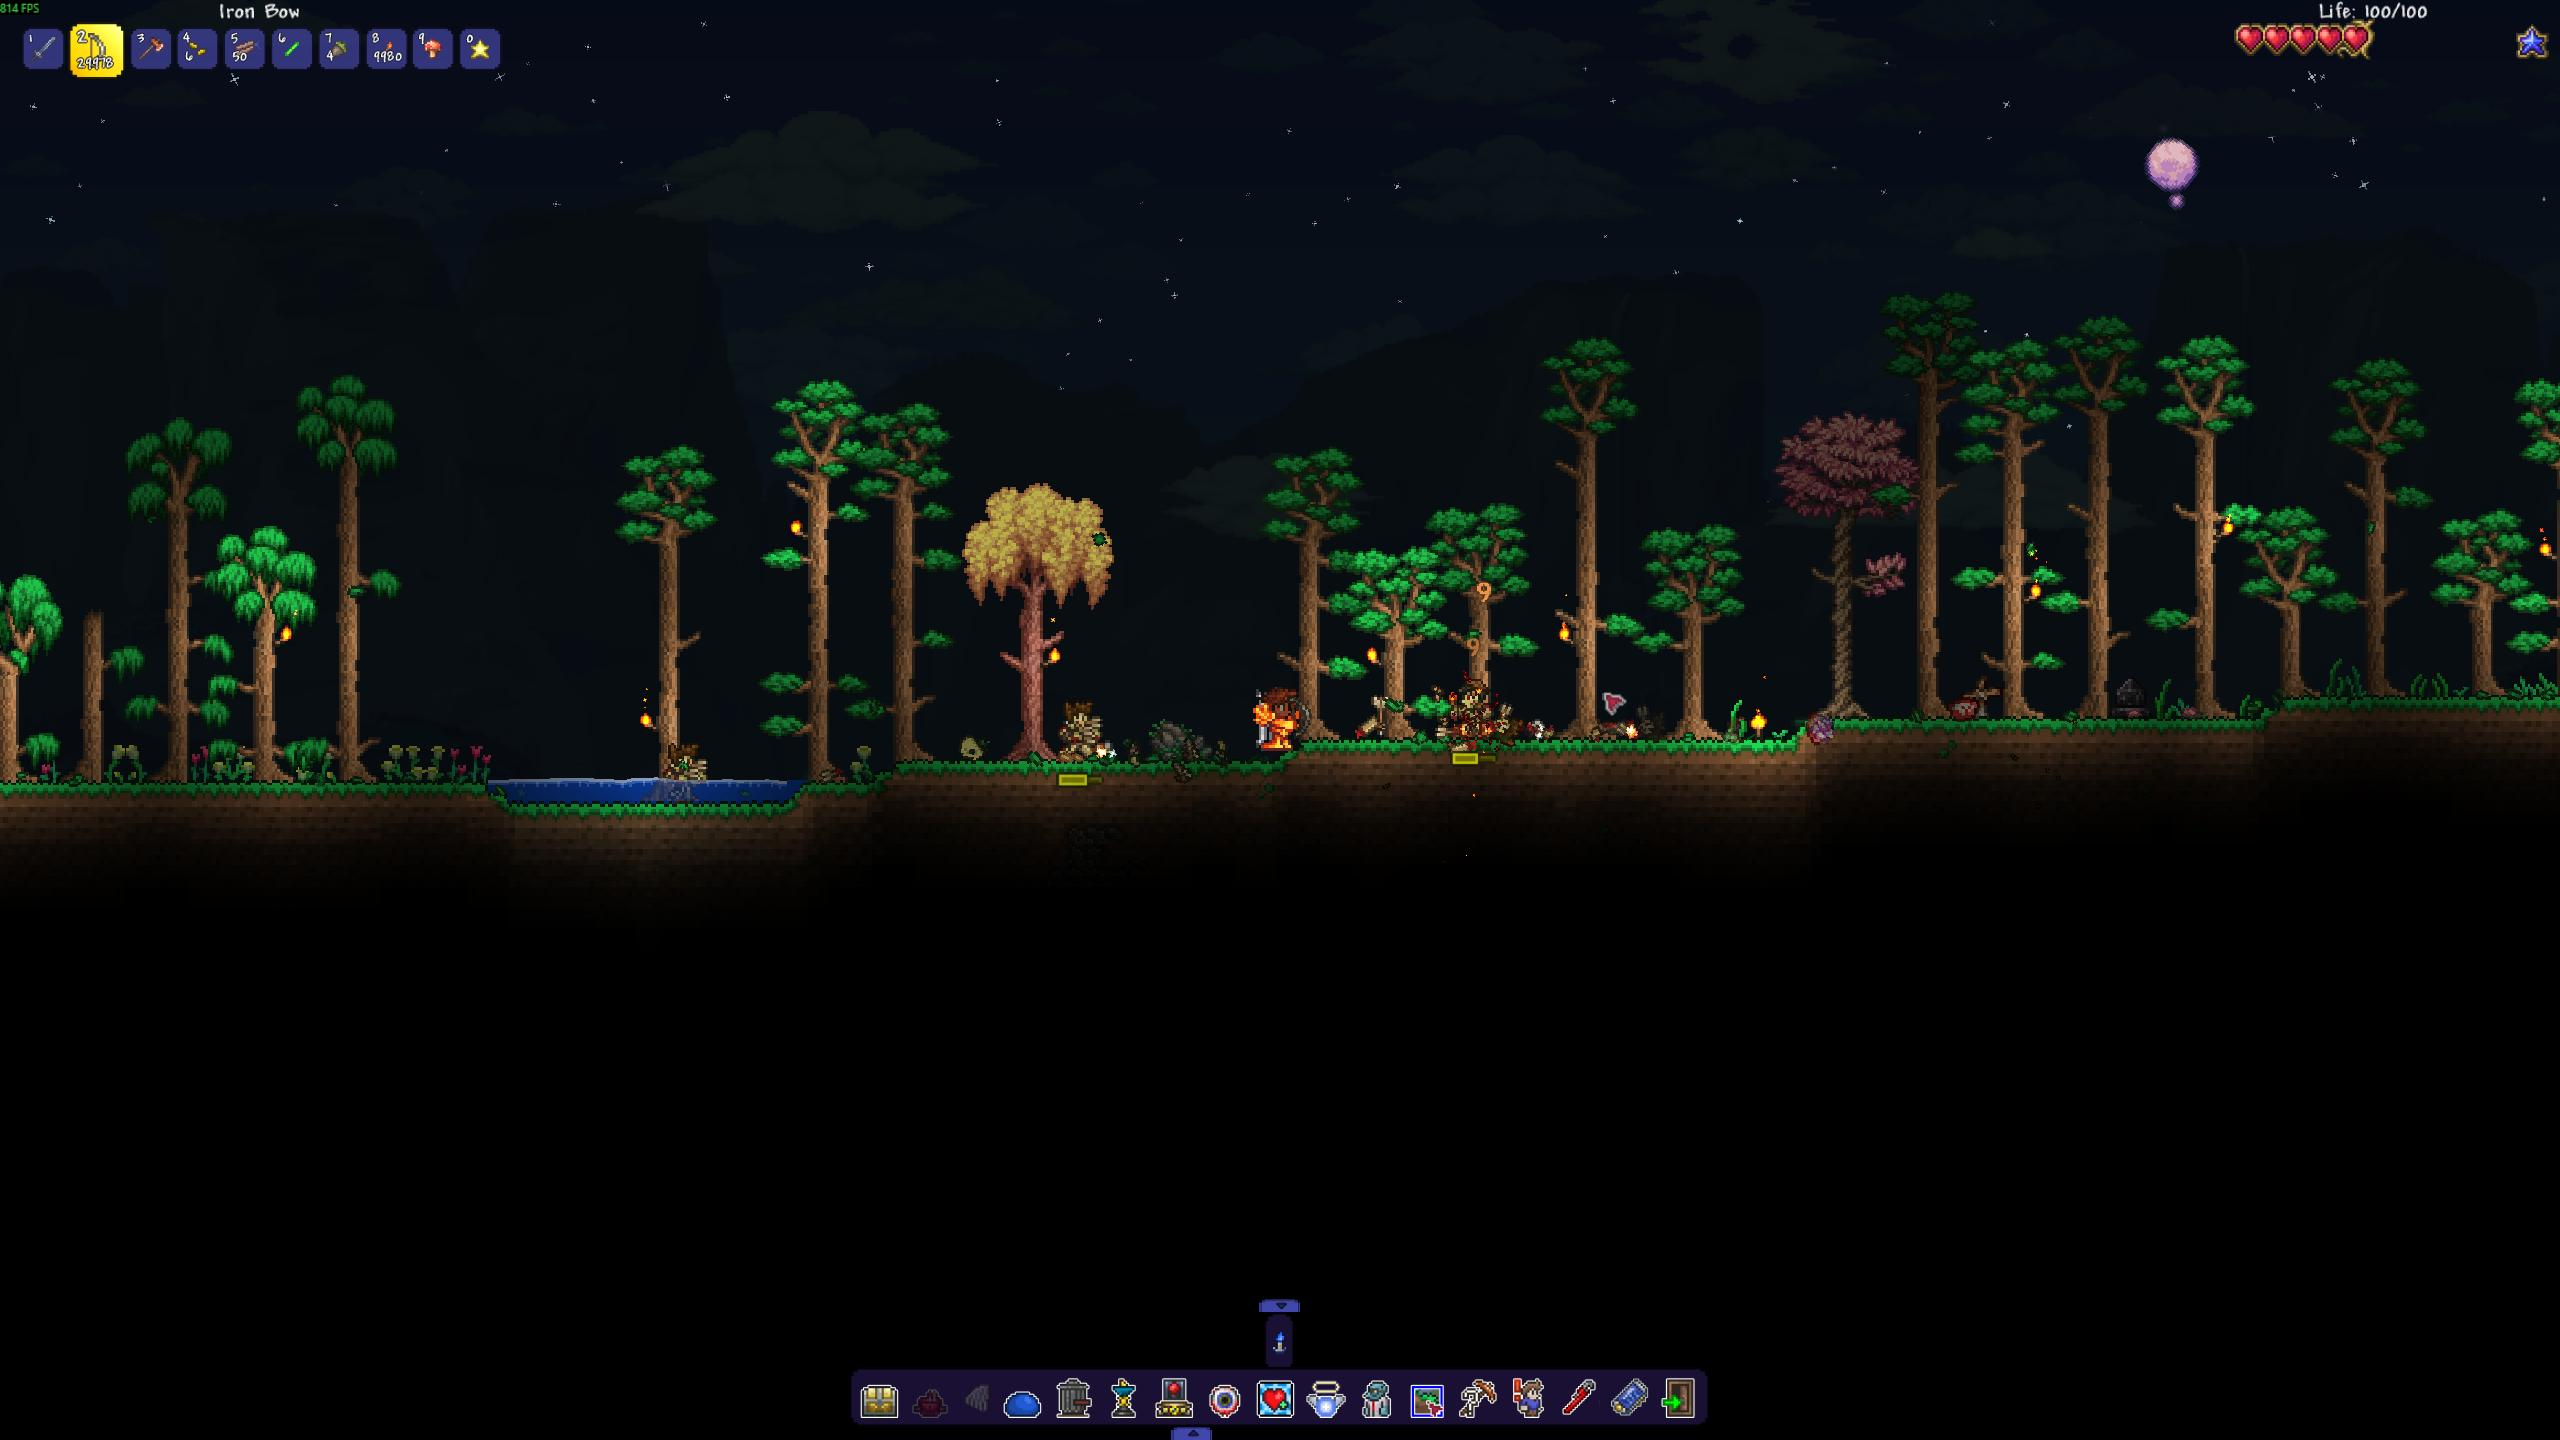Zombie: (659, 738, 709, 802), (1055, 695, 1097, 761), (1452, 675, 1489, 735)
